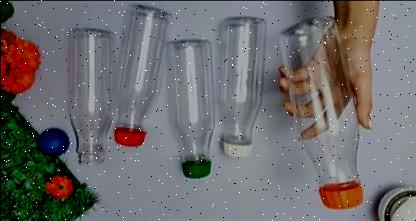Plastic Bottle: (72, 6, 292, 180), (277, 5, 393, 215), (3, 98, 102, 220), (2, 18, 40, 96)
